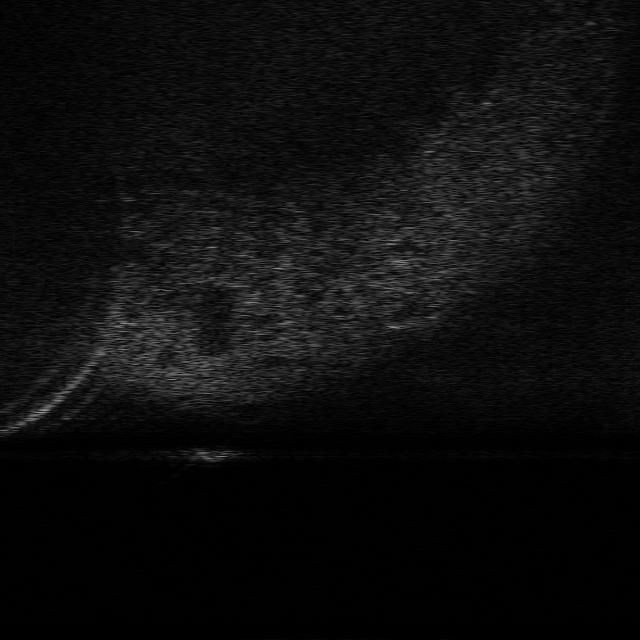cube: (178, 446, 242, 464)
